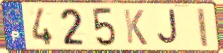2: (60, 7, 89, 47)
4: (31, 6, 55, 47)
5: (91, 6, 118, 48)
I: (195, 7, 210, 48)
J: (156, 8, 180, 46)
K: (122, 8, 149, 47)
